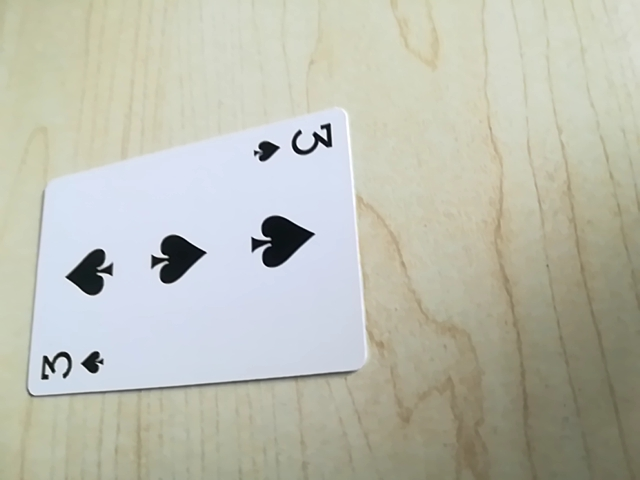ht 3: (250, 120, 338, 168), (32, 339, 111, 390)
